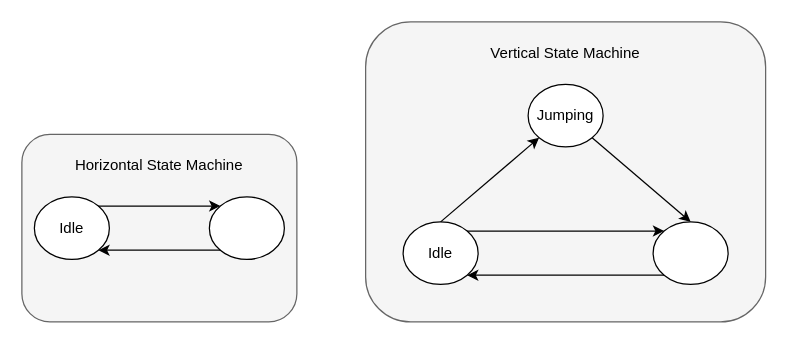
This 788x344 diagram has some shape labels left out. Here are the shapes that lost their labels. From the top down, the centre of each, then its label:
At (246,227): "Walking".
At (690,252): "Falling".
